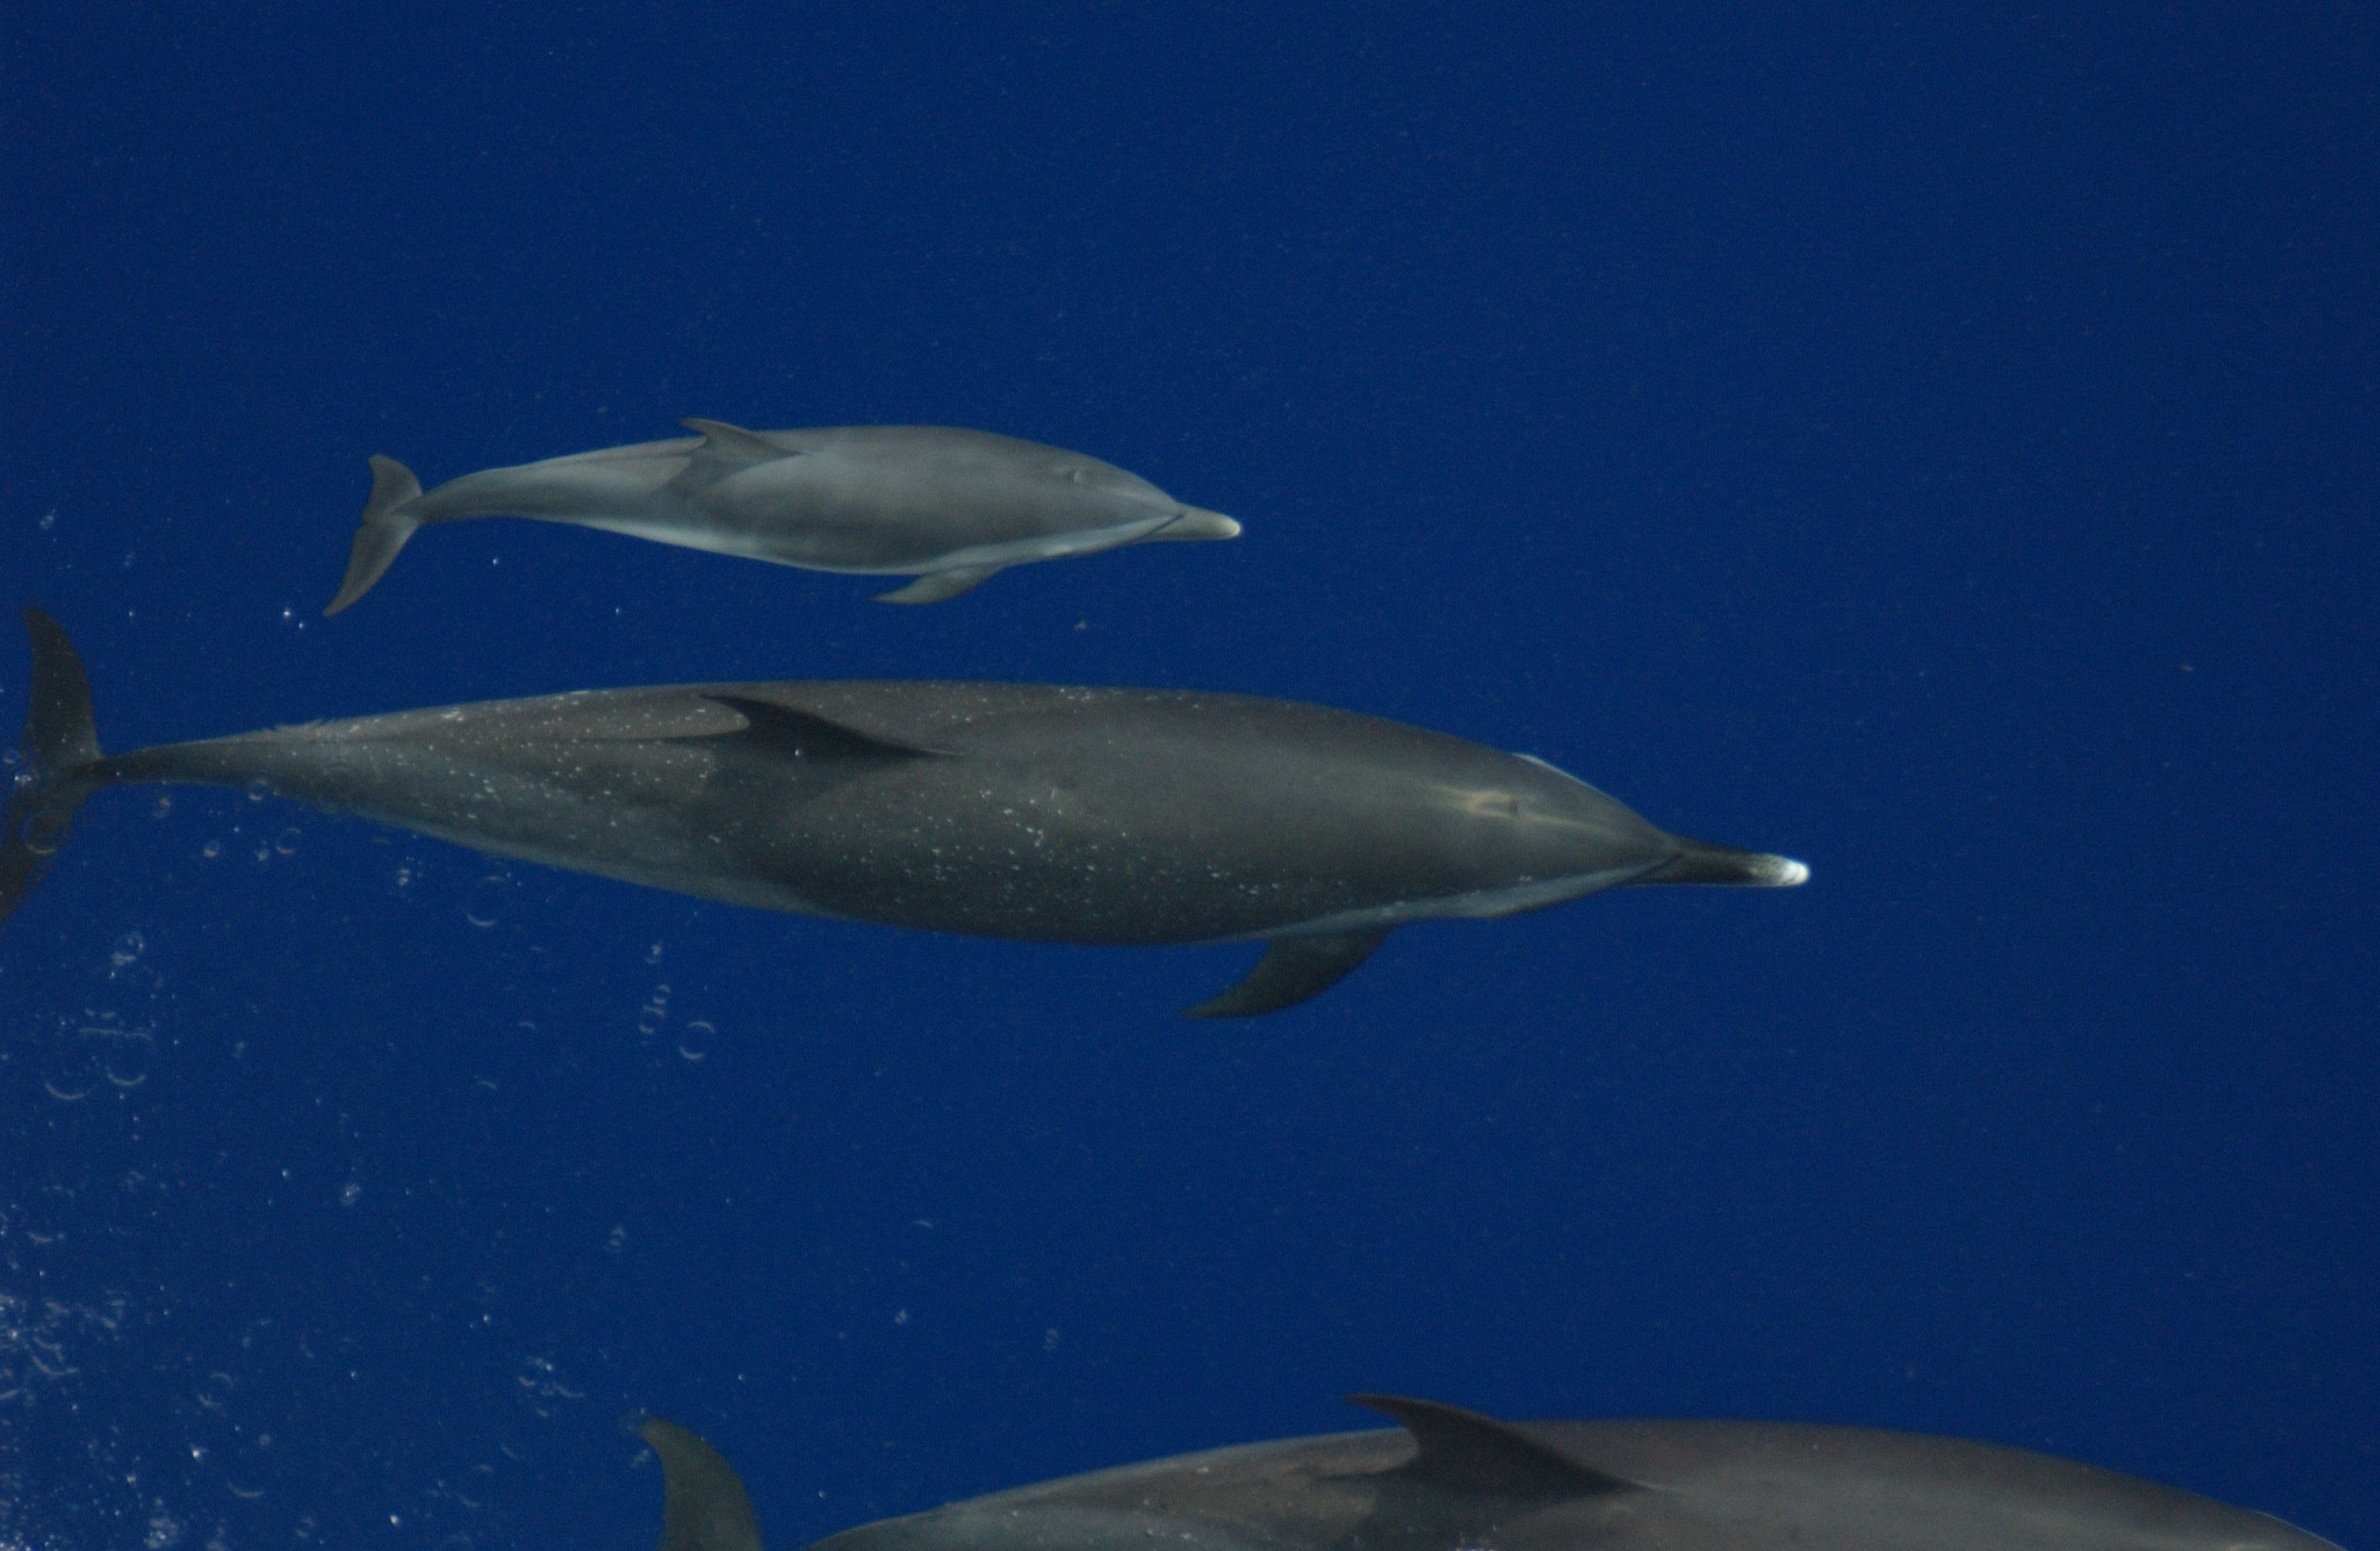dolphin: (12, 621, 1808, 1006), (319, 420, 1242, 602)
